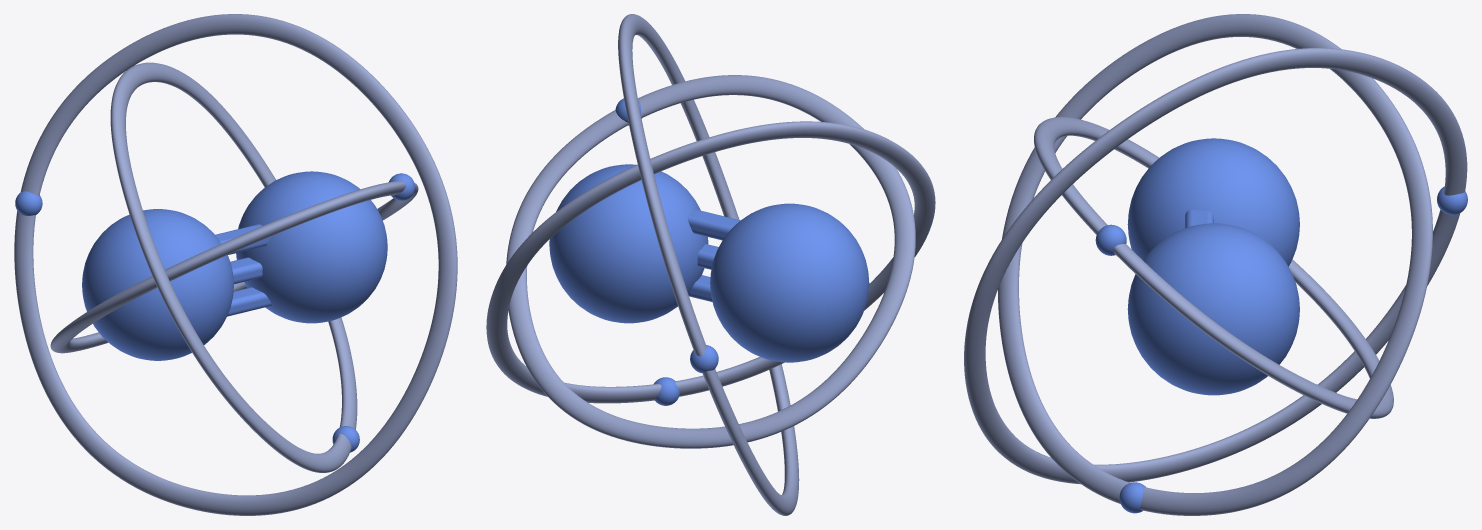
The picture shows the model from 3 angles, left to right: view 1: azimuth 30°, elevation 25°; view 2: azimuth 150°, elevation 25°; view 3: azimuth 270°, elevation 25°; orthographic projection. The views are drawn at different scales.
Bounding box in the file's own units: 0.9432 × 1.12 × 1.05.
